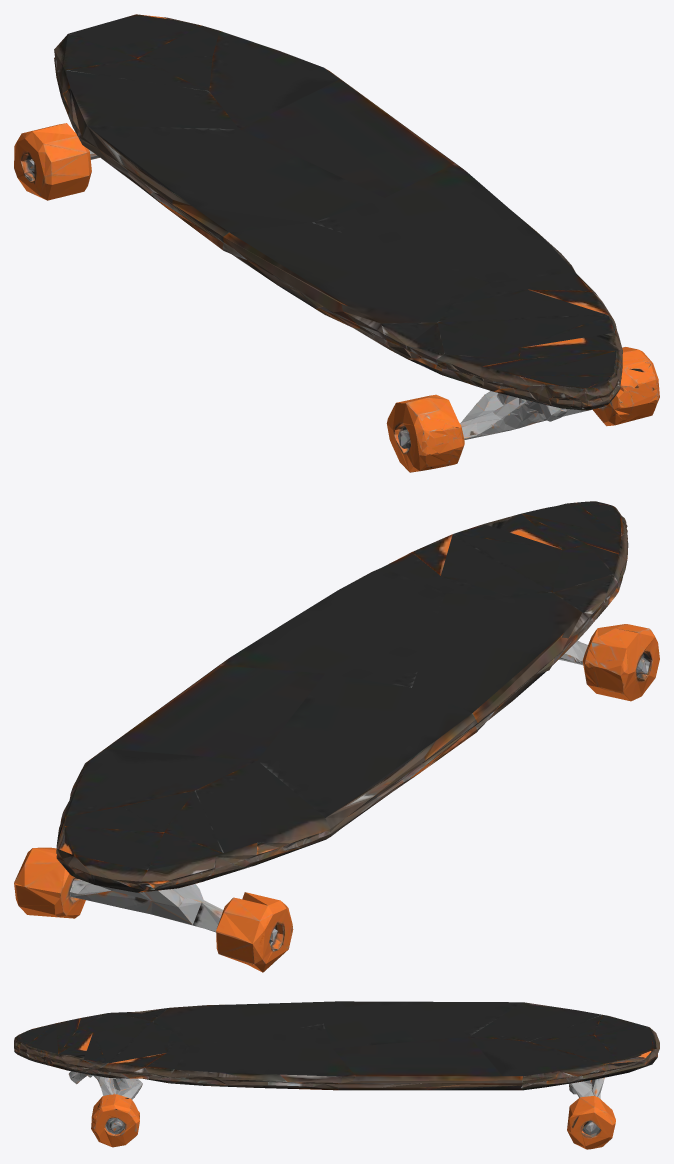
Rendered from board.glb.
The picture shows the model from 3 angles, top to bottom: view 1: azimuth 30°, elevation 25°; view 2: azimuth 150°, elevation 25°; view 3: azimuth 270°, elevation 25°; orthographic projection. The views are drawn at different scales.
Parts seen in each view (by area): view 1: mesh_node; view 2: mesh_node; view 3: mesh_node.
Boxes of the visible parts, bbox=[...] form: mesh_node: bbox=[14, 14, 659, 472]; mesh_node: bbox=[14, 501, 659, 972]; mesh_node: bbox=[14, 1001, 659, 1149].
Size of the model in its own units: 0.338 by 0.1461 by 1.17.
1 material, 1 textured.
